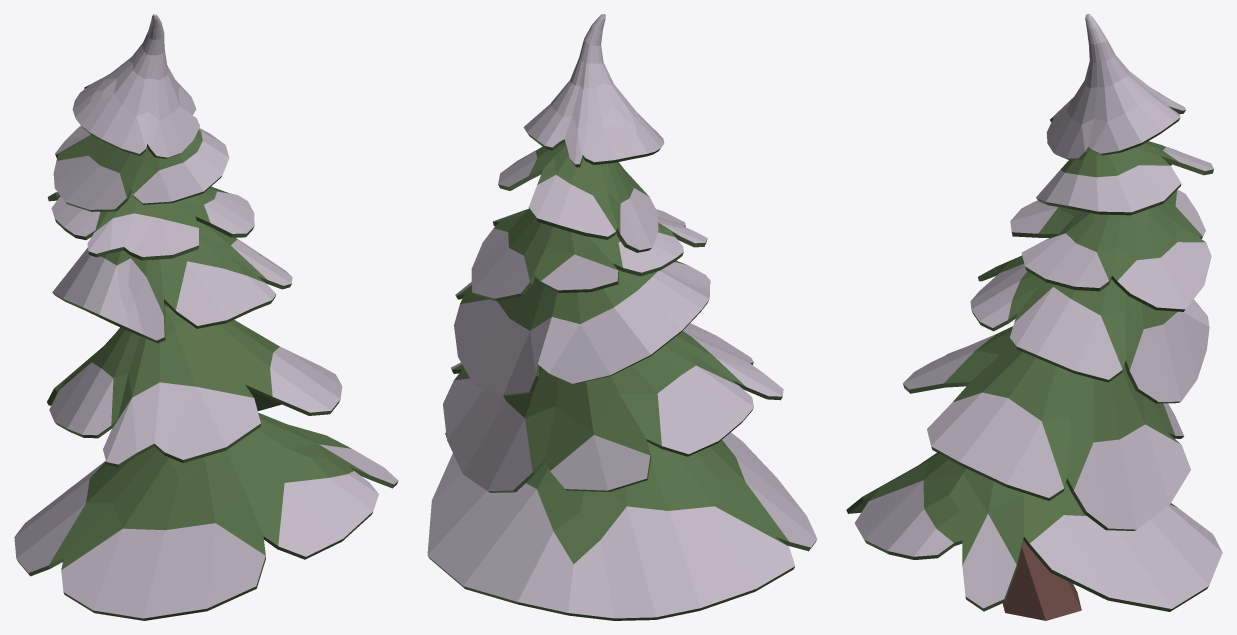
The model's file is pinetree_snow_3.glb.
3 renders of one model, left to right at view 1: azimuth 30°, elevation 25°; view 2: azimuth 150°, elevation 25°; view 3: azimuth 270°, elevation 25°, orthographic. The views are drawn at different scales.
Visible parts, largest first — view 1: PineTree_Snow_3; view 2: PineTree_Snow_3; view 3: PineTree_Snow_3.
Boxes of the visible parts, x1,y1,x2,y2 form: PineTree_Snow_3: [14, 14, 398, 620]; PineTree_Snow_3: [427, 14, 817, 620]; PineTree_Snow_3: [846, 14, 1222, 620].
Size of the model in its own units: 2.16 by 3.3 by 1.95.
